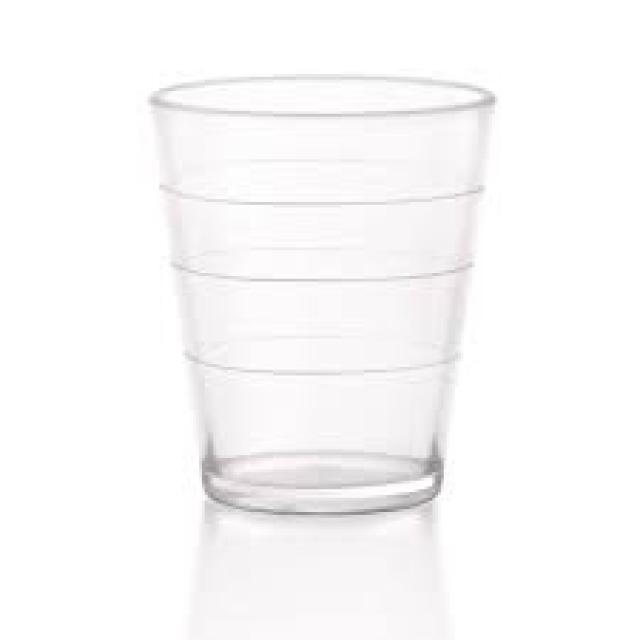cup: (127, 57, 525, 550)
